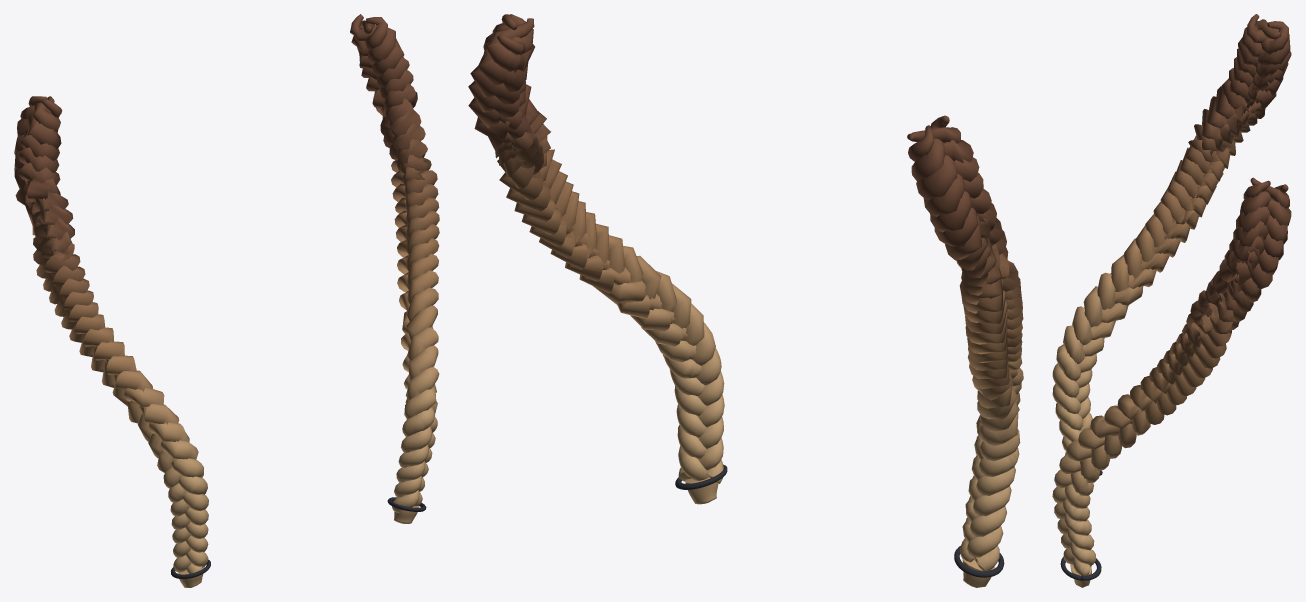
Rendered from twins-none-bandeau-ombre.glb.
3 views of the same model, side by side, from view 1: azimuth 30°, elevation 25°; view 2: azimuth 150°, elevation 25°; view 3: azimuth 270°, elevation 25° (orthographic). The views are drawn at different scales.
Parts seen in each view (by area): view 1: 226 hairLengths / Hair / chestnut226; view 2: 226 hairLengths / Hair / chestnut226, 226 hairLengths / Hair / ties226; view 3: 226 hairLengths / Hair / chestnut226, 226 hairLengths / Hair / ties226.
Boxes of the visible parts, x1,y1,x2,y2 form: 226 hairLengths / Hair / chestnut226: (14,14,439,587); 226 hairLengths / Hair / chestnut226: (468,14,1023,587); 226 hairLengths / Hair / ties226: (675,464,1004,577); 226 hairLengths / Hair / chestnut226: (1052,14,1291,587); 226 hairLengths / Hair / ties226: (1060,470,1102,580).
Size of the model in its own units: 0.8713 by 0.9282 by 0.4504.
Materials: 2 (1 with a texture image).
